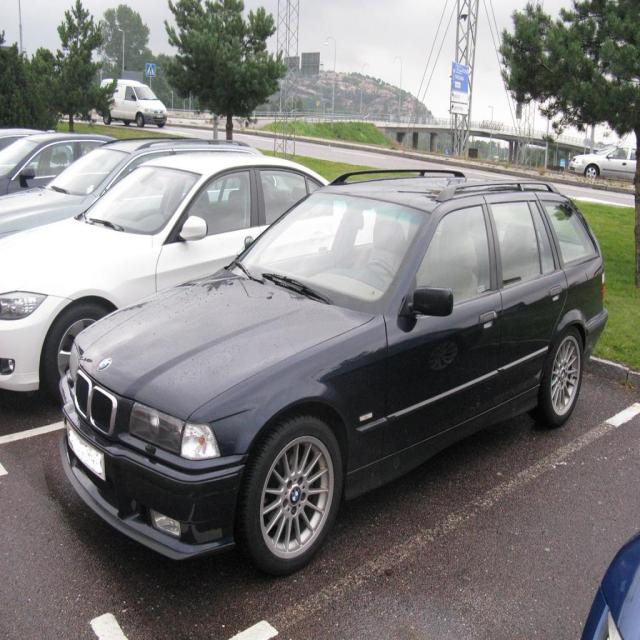car: (56, 168, 611, 574)
